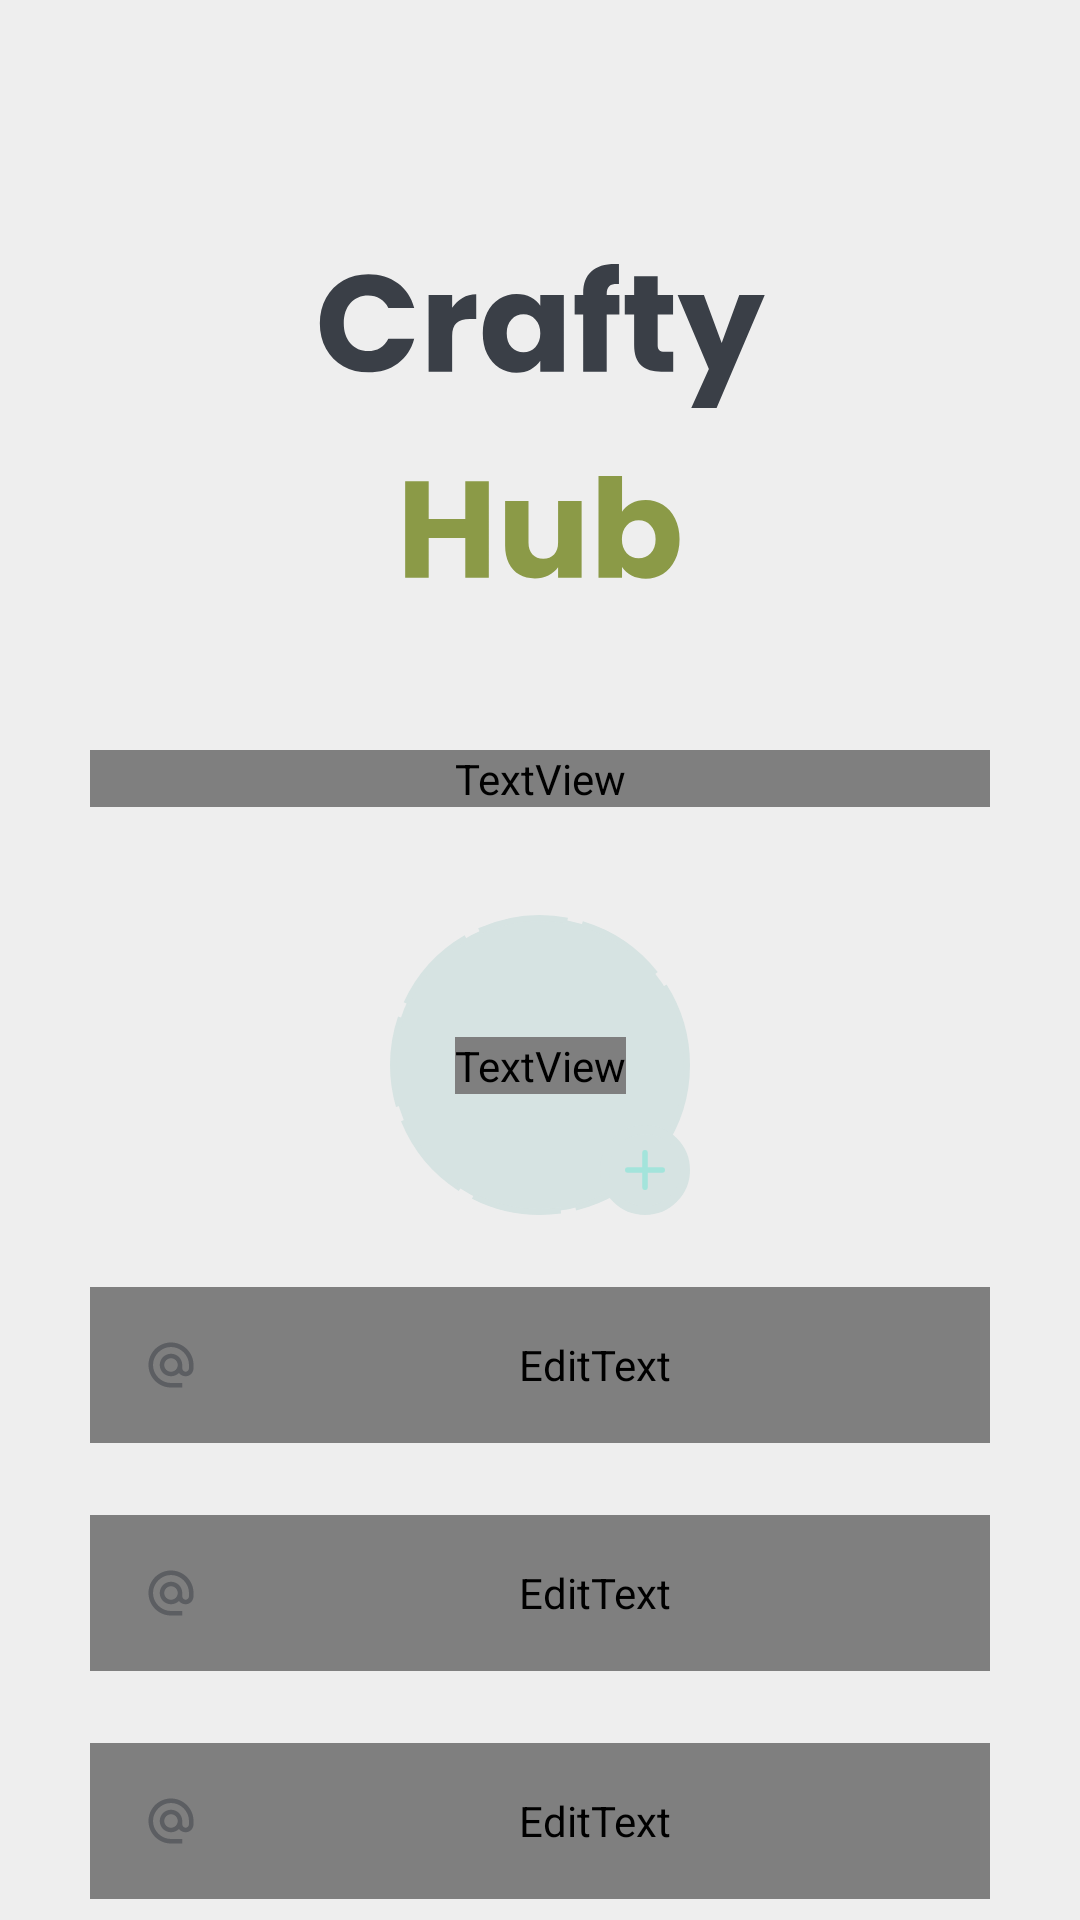

Locate icon controls on the screen. Image size 1080px×1920px, boxes as (left=x1, top=y1, right=x2, bottom=y2).
add button: (left=600, top=1125, right=690, bottom=1215)
